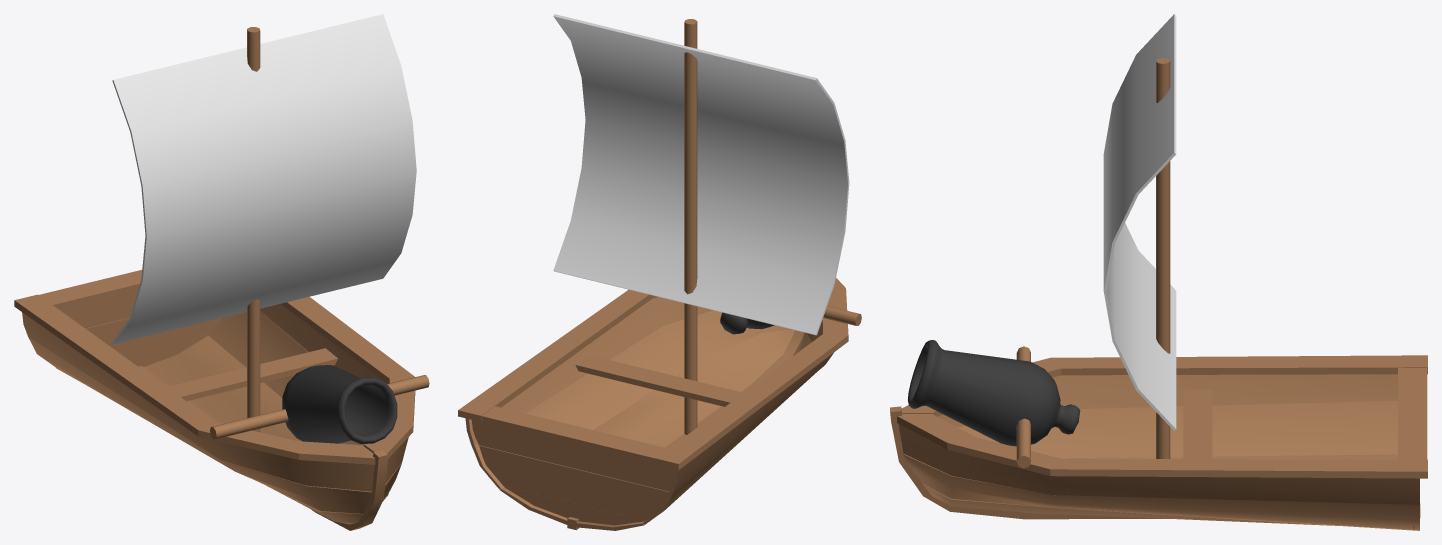
File: EnemyBoat.fbx
The picture shows the model from 3 angles, left to right: view 1: azimuth 30°, elevation 25°; view 2: azimuth 150°, elevation 25°; view 3: azimuth 270°, elevation 25°; orthographic projection. The views are drawn at different scales.
Visible parts, largest first — view 1: Plane.002, Cube.015, Cube.022, Cube.021, Cylinder.002, Cube.017, Cube.020, Cube.018, Cylinder.003, Cube.016; view 2: Plane.002, Cube.015, Cube.017, Cylinder.002, Cube.018, Cube.020, Cube.021, Cube.016, Cube.022, Cylinder.003; view 3: Cube.015, Plane.002, Cube.022, Cylinder.002, Cube.020, Cube.021, Cylinder.003.
Boxes of the visible parts, x1,y1,x2,y2 form: Plane.002: (112, 14, 416, 344); Cube.015: (14, 294, 415, 530); Cube.022: (282, 365, 397, 443); Cube.021: (167, 348, 337, 401); Cylinder.002: (247, 27, 260, 432); Cube.017: (55, 318, 222, 368); Cube.020: (39, 270, 142, 309); Cube.018: (59, 290, 137, 328); Cylinder.003: (210, 375, 429, 439); Cube.016: (122, 334, 208, 366); Plane.002: (553, 14, 849, 335); Cube.015: (458, 278, 848, 530); Cube.017: (479, 445, 669, 520); Cylinder.002: (684, 19, 697, 434); Cube.018: (471, 420, 674, 491); Cube.020: (481, 406, 668, 463); Cube.021: (575, 355, 743, 406); Cube.016: (503, 486, 645, 525); Cube.022: (720, 312, 774, 334); Cylinder.003: (823, 306, 861, 325); Cube.015: (890, 355, 1427, 530); Plane.002: (1103, 14, 1176, 430); Cube.022: (908, 340, 1080, 446); Cylinder.002: (1156, 58, 1170, 458); Cube.020: (1398, 367, 1427, 459); Cube.021: (1183, 389, 1212, 458); Cylinder.003: (1016, 346, 1030, 468).
Bounding box in the file's own units: 115 × 176 × 189.
